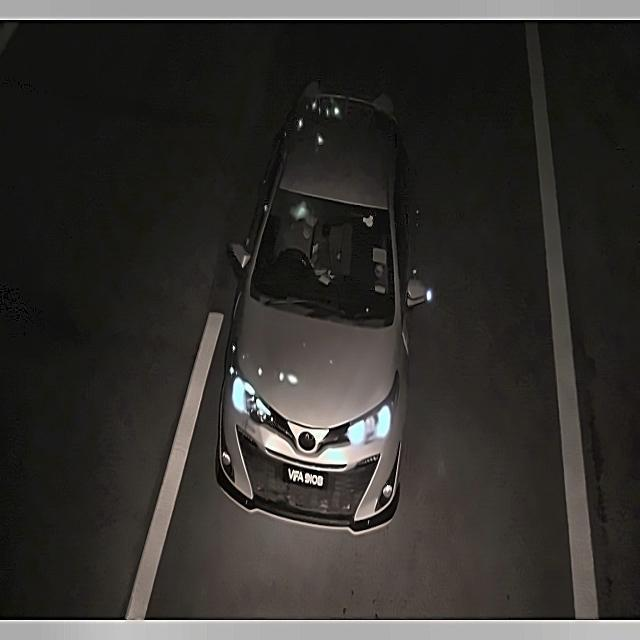car: (278, 458, 328, 494)
